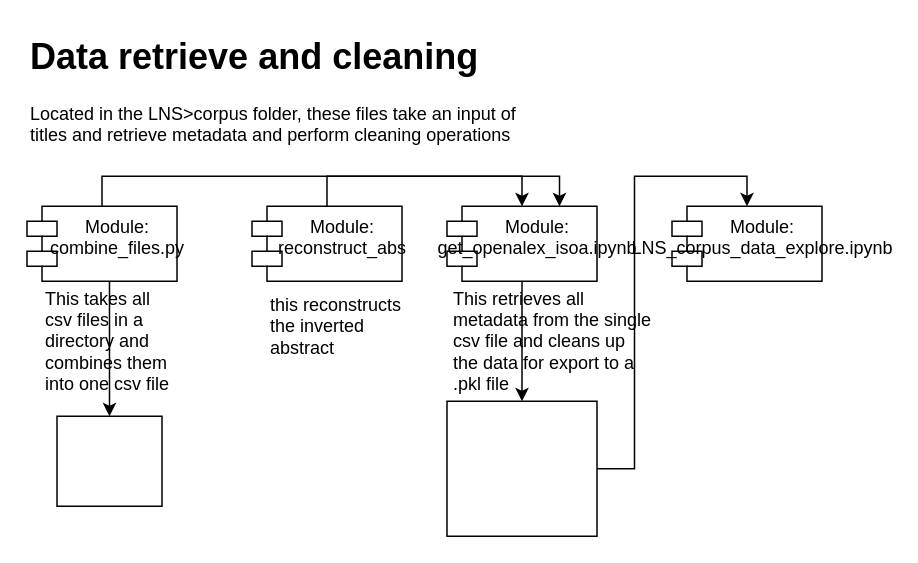
Some shapes in this 918 by 563 pixel diagram are drawn without their labels. Each missing label, with the centre of its shape:
LNS_openalex_full_metadata_REV3_cleaned.pkl id doi title ...: [521,468]
output.csv any: [109,460]
